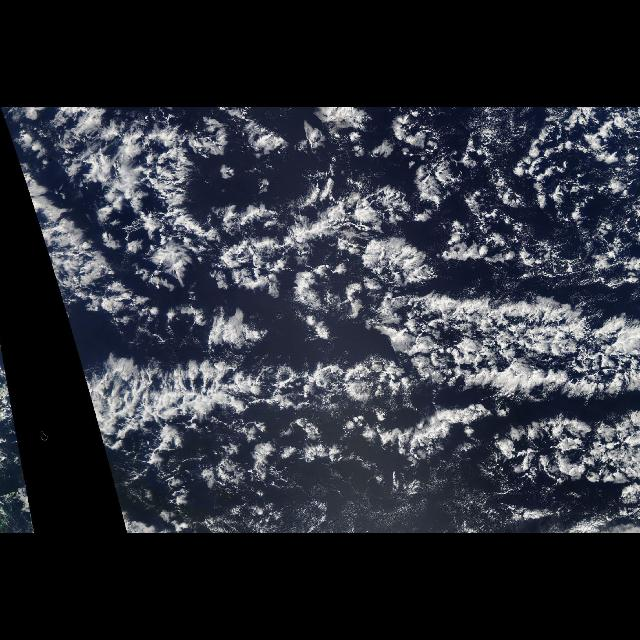Fish: (3, 114, 639, 494), (3, 354, 27, 486)
